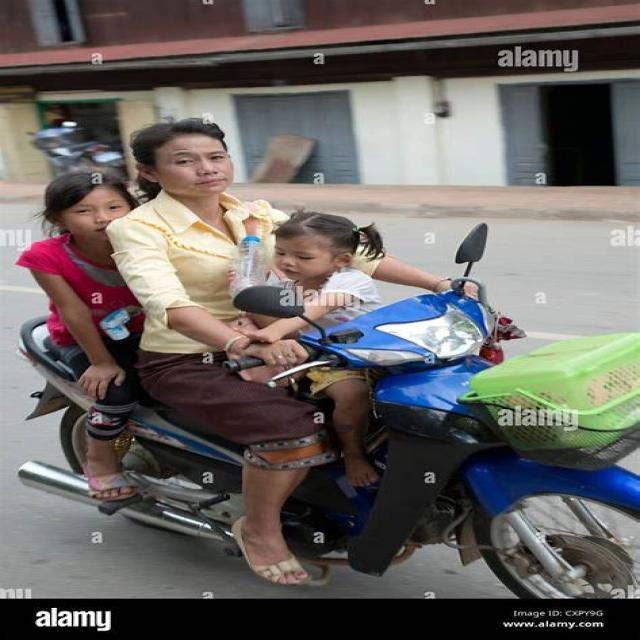Without Helmet: (126, 113, 247, 196), (254, 216, 385, 277), (44, 166, 133, 246)
